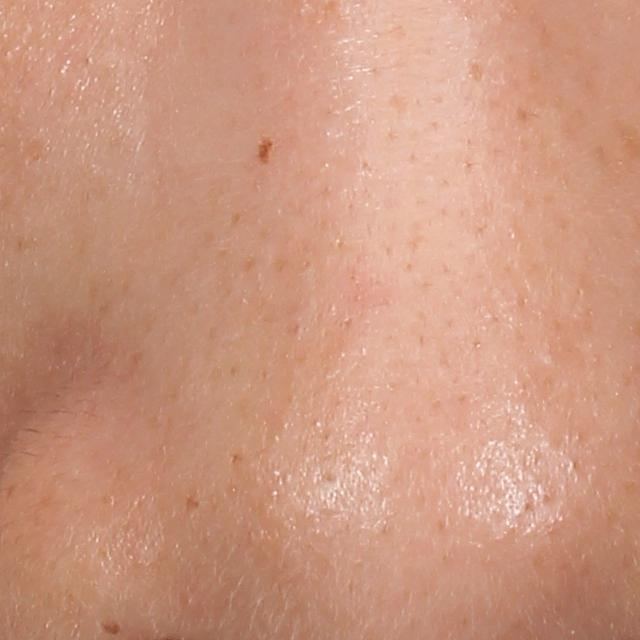melasma: (467, 59, 487, 87)
nevus: (94, 613, 125, 636), (255, 138, 272, 163)
